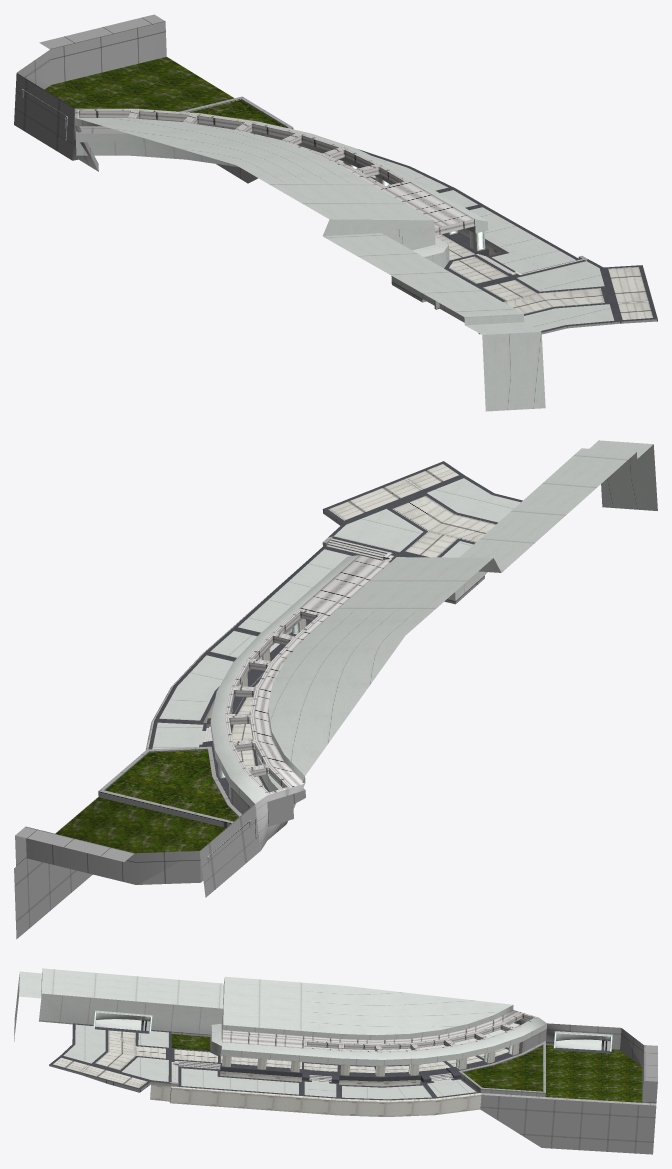
Rendered from STA20_48.FBX.
3 renders of one model, top to bottom at view 1: azimuth 30°, elevation 25°; view 2: azimuth 150°, elevation 25°; view 3: azimuth 270°, elevation 25°, orthographic. The views are drawn at different scales.
Visible parts, largest first — view 1: STA20_48; view 2: STA20_48; view 3: STA20_48.
Part boxes in pixels (box(x1,y1,x2,y2)): STA20_48: box(14, 14, 657, 411); STA20_48: box(14, 440, 657, 939); STA20_48: box(14, 968, 657, 1154).
Size of the model in its own units: 38.17 by 27.46 by 122.
